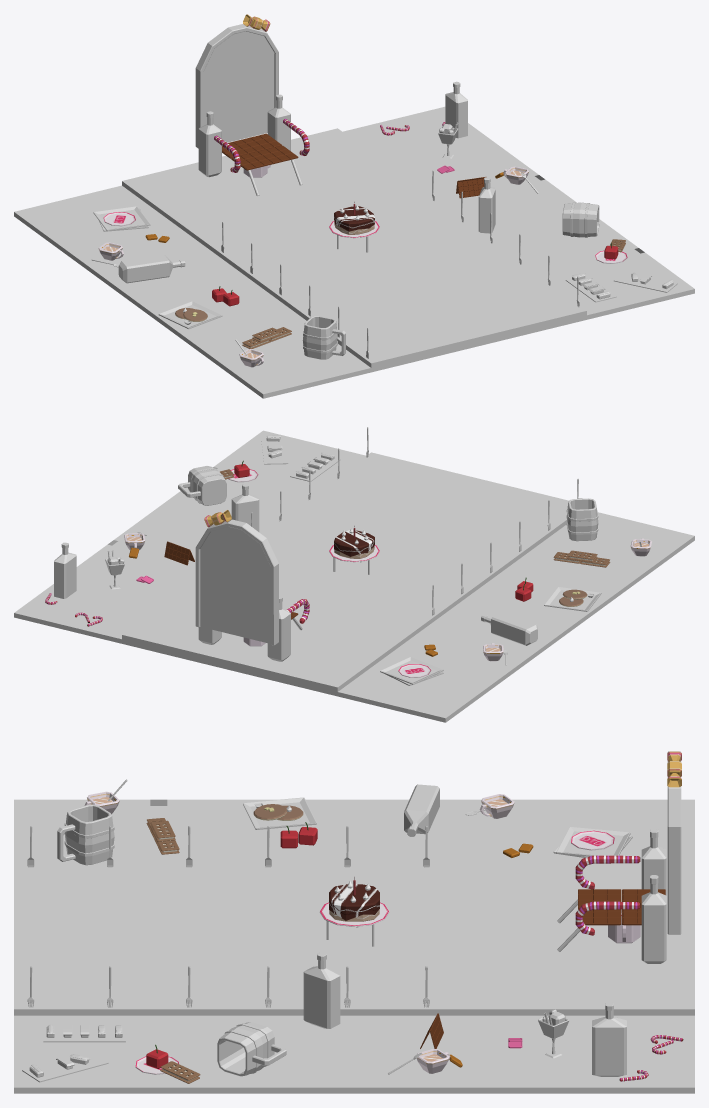
File: teaObject.fbx
3 renders of one model, top to bottom at view 1: azimuth 30°, elevation 25°; view 2: azimuth 150°, elevation 25°; view 3: azimuth 270°, elevation 25°, orthographic. The views are drawn at different scales.
Parts seen in each view (by area): view 1: Floor, chair back, wine barrel, wine.002, wine barrel.001, wine.001, cake.001, wine2, chocolate.001, wine, wine2.001, chocolate (+2 smaller); view 2: Floor, chair back, wine barrel.001, wine barrel, wine.002, wine2, cake.001, wine2.001, wine.001, plate_square.002, plate_square, woodPlate.001 (+1 smaller); view 3: Floor, wine barrel, wine barrel.001, wine2.001, chair back, wine2, wine, cake.001, wine.002, chocolate.001, wine.001, plate_square (+15 smaller).
Part boxes in pixels (left/top/right/bottom): Floor: left=14, top=106, right=694, bottom=398; chair back: left=195, top=24, right=278, bottom=148; wine barrel: left=302, top=315, right=345, bottom=359; wine.002: left=118, top=254, right=185, bottom=283; wine barrel.001: left=562, top=202, right=599, bottom=237; wine.001: left=198, top=111, right=221, bottom=177; cake.001: left=334, top=202, right=374, bottom=234; wine2: left=445, top=81, right=467, bottom=138; chocolate.001: left=231, top=145, right=298, bottom=170; wine: left=267, top=94, right=290, bottom=150; wine2.001: left=478, top=177, right=495, bottom=233; chocolate: left=222, top=133, right=281, bottom=158; Floor: left=14, top=430, right=694, bottom=722; chair back: left=195, top=519, right=278, bottom=645; wine barrel.001: left=178, top=466, right=226, bottom=505; wine barrel: left=566, top=498, right=598, bottom=541; wine.002: left=481, top=612, right=537, bottom=645; wine2: left=54, top=542, right=76, bottom=598; cake.001: left=334, top=526, right=374, bottom=558; wine2.001: left=231, top=483, right=259, bottom=531; wine.001: left=267, top=596, right=290, bottom=661; plate_square.002: left=380, top=656, right=443, bottom=684; plate_square: left=544, top=586, right=601, bottom=611; woodPlate.001: left=261, top=438, right=288, bottom=464; Floor: left=14, top=799, right=694, bottom=1093; wine barrel: left=57, top=804, right=114, bottom=865; wine barrel.001: left=217, top=1022, right=286, bottom=1076; wine2.001: left=303, top=952, right=340, bottom=1028; chair back: left=667, top=751, right=681, bottom=934; wine2: left=592, top=1002, right=626, bottom=1076; wine: left=641, top=875, right=666, bottom=963; cake.001: left=329, top=877, right=379, bottom=921; wine.002: left=404, top=784, right=439, bottom=836; chocolate.001: left=578, top=889, right=621, bottom=925; wine.001: left=641, top=829, right=666, bottom=895; plate_square: left=243, top=797, right=316, bottom=829.
Bounding box in the file's own units: 20000 × 6670 × 20000.
